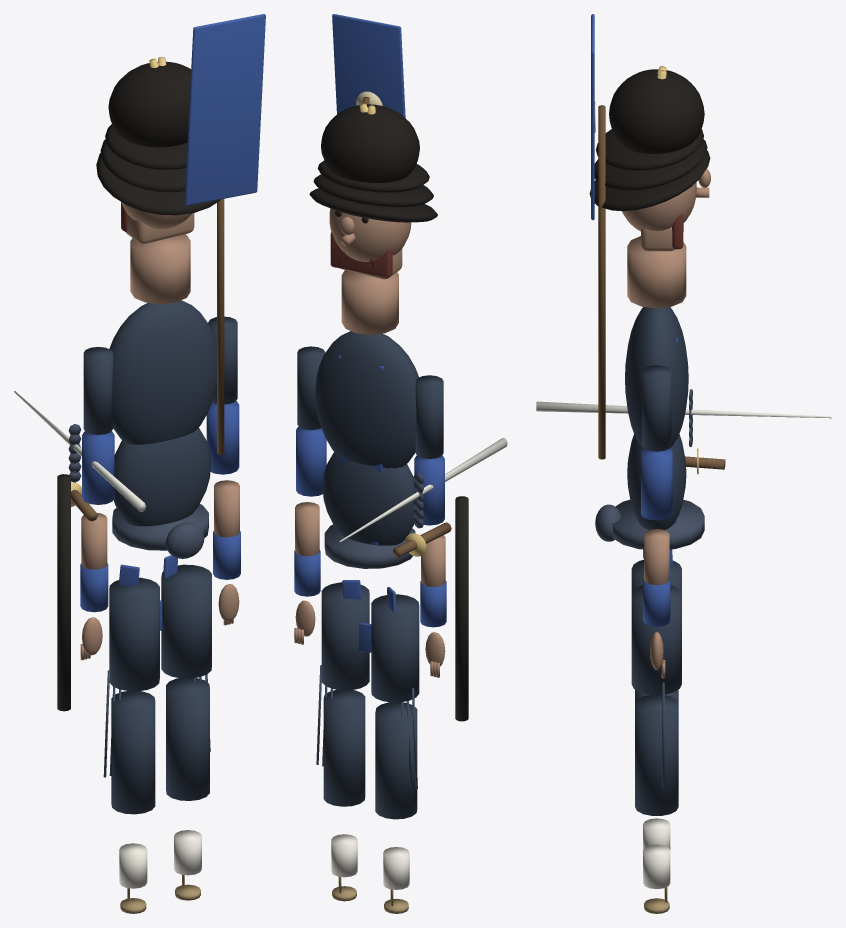
The model's file is samurai_uesugi_v7.glb.
3 renders of one model, left to right at view 1: azimuth 30°, elevation 25°; view 2: azimuth 150°, elevation 25°; view 3: azimuth 270°, elevation 25°, orthographic. The views are drawn at different scales.
Visible parts, largest first — view 1: sashimono_cloth, chest, abdomen, kabuto_dome, right_hakama_upper, left_hakama_upper, left_hakama_lower, right_hakama_lower, neck, saya, left_upper_arm, shikoro_tier_2 (+19 smaller); view 2: chest, abdomen, kabuto_dome, sashimono_cloth, left_hakama_upper, right_hakama_lower, left_hakama_lower, right_hakama_upper, neck, saya, head, left_upper_arm (+18 smaller); view 3: kabuto_dome, chest, right_hakama_lower, right_hakama_upper, neck, sashimono_pole, right_upper_arm, obi, abdomen, right_kote, shikoro_tier_2, shikoro_tier_1 (+11 smaller).
Boxes of the visible parts, x1=… form: sashimono_cloth: x1=184, y1=14, x2=265, y2=205; chest: x1=109, y1=300, x2=216, y2=444; abdomen: x1=113, y1=427, x2=210, y2=526; kabuto_dome: x1=108, y1=61, x2=191, y2=147; right_hakama_upper: x1=161, y1=564, x2=211, y2=678; left_hakama_upper: x1=109, y1=577, x2=159, y2=691; left_hakama_lower: x1=111, y1=691, x2=155, y2=814; right_hakama_lower: x1=166, y1=678, x2=209, y2=800; neck: x1=130, y1=234, x2=190, y2=304; saya: x1=57, y1=474, x2=70, y2=711; left_upper_arm: x1=83, y1=347, x2=113, y2=434; shikoro_tier_2: x1=96, y1=152, x2=220, y2=215; chest: x1=315, y1=331, x2=418, y2=468; abdomen: x1=322, y1=452, x2=414, y2=545; kabuto_dome: x1=321, y1=104, x2=419, y2=182; sashimono_cloth: x1=332, y1=14, x2=405, y2=117; left_hakama_upper: x1=371, y1=594, x2=419, y2=702; right_hakama_lower: x1=323, y1=689, x2=365, y2=806; left_hakama_lower: x1=375, y1=702, x2=417, y2=819; right_hakama_upper: x1=321, y1=582, x2=369, y2=690; neck: x1=341, y1=270, x2=398, y2=334; saya: x1=455, y1=496, x2=468, y2=721; head: x1=329, y1=208, x2=411, y2=261; left_upper_arm: x1=415, y1=375, x2=443, y2=458; kabuto_dome: x1=609, y1=69, x2=704, y2=153; chest: x1=625, y1=307, x2=688, y2=447; right_hakama_lower: x1=635, y1=694, x2=678, y2=815; right_hakama_upper: x1=631, y1=585, x2=681, y2=694; neck: x1=627, y1=236, x2=686, y2=308; sashimono_pole: x1=598, y1=105, x2=605, y2=459; right_upper_arm: x1=642, y1=365, x2=671, y2=451; obi: x1=612, y1=499, x2=704, y2=549; abdomen: x1=627, y1=434, x2=686, y2=529; right_kote: x1=641, y1=448, x2=672, y2=520; shikoro_tier_2: x1=589, y1=150, x2=710, y2=211; shikoro_tier_1: x1=594, y1=139, x2=707, y2=190.
Bounding box in the file's own units: 0.4499 × 2.14 × 0.6485.
